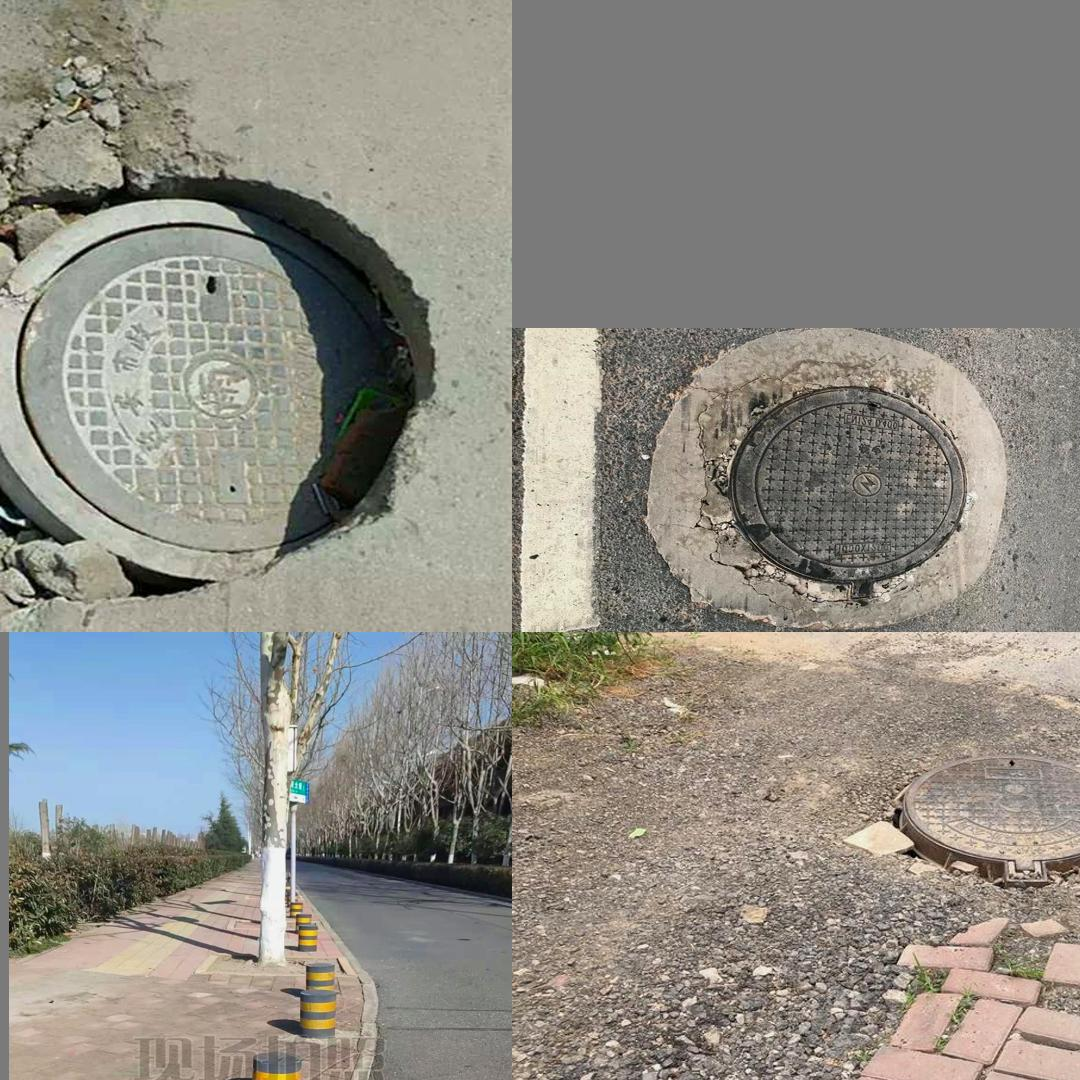circle: (0, 45, 433, 593), (647, 336, 1004, 625), (822, 716, 1080, 932)
